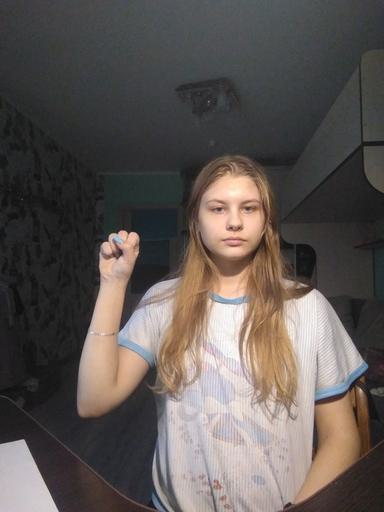fist: (96, 229, 142, 281)
